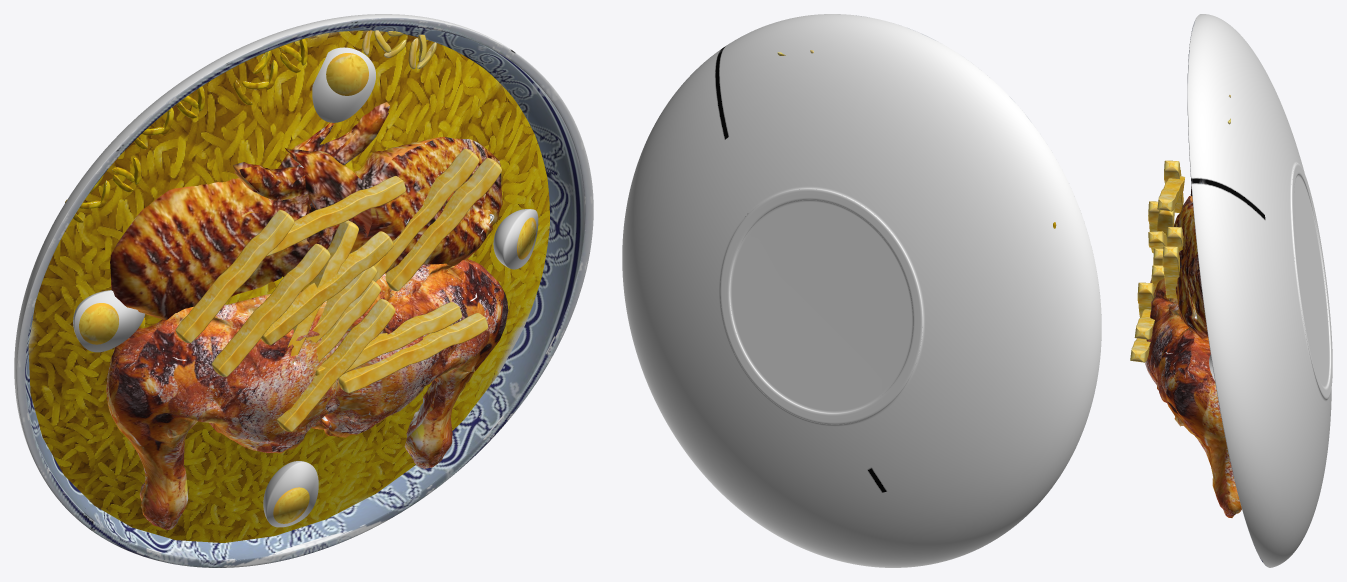
File: large_kbsah.glb
3 views of the same model, side by side, from view 1: azimuth 30°, elevation 25°; view 2: azimuth 150°, elevation 25°; view 3: azimuth 270°, elevation 25° (orthographic). The views are drawn at different scales.
Visible parts, largest first — view 1: Cone.001, Kugel.001, object_0.001, Vert.001, object_0.002, Vert.002, Cube.009, Cube.010, Sphere.010, Cube.008, Cube.011, Cube.006 (+14 smaller); view 2: Kugel.001; view 3: Kugel.001, object_0.002, Vert.002, Cube.011, Cube.017, Cube.008, Cube.010, Cube.012, Cube.013, Cube.014, Cube.007, Cube.006 (+1 smaller).
Boxes of the visible parts, left/top/right/bottom form: Cone.001: left=28, top=30, right=549, bottom=542; Kugel.001: left=14, top=14, right=593, bottom=567; object_0.001: left=106, top=292, right=338, bottom=530; Vert.001: left=110, top=102, right=389, bottom=320; object_0.002: left=312, top=259, right=508, bottom=468; Vert.002: left=233, top=137, right=502, bottom=273; Cube.009: left=211, top=243, right=330, bottom=376; Cube.010: left=175, top=210, right=294, bottom=343; Sphere.010: left=312, top=47, right=375, bottom=122; Cube.008: left=277, top=299, right=395, bottom=431; Cube.011: left=385, top=158, right=501, bottom=291; Cube.006: left=261, top=231, right=393, bottom=344; Kugel.001: left=622, top=14, right=1101, bottom=567; Kugel.001: left=1187, top=14, right=1332, bottom=567; object_0.002: left=1145, top=278, right=1241, bottom=517; Vert.002: left=1173, top=186, right=1208, bottom=339; Cube.011: left=1162, top=246, right=1179, bottom=298; Cube.017: left=1157, top=176, right=1184, bottom=211; Cube.008: left=1137, top=282, right=1154, bottom=317; Cube.010: left=1164, top=160, right=1183, bottom=212; Cube.012: left=1134, top=309, right=1154, bottom=339; Cube.013: left=1130, top=338, right=1150, bottom=362; Cube.014: left=1166, top=227, right=1183, bottom=252; Cube.007: left=1157, top=208, right=1174, bottom=236; Cube.006: left=1148, top=231, right=1166, bottom=251.
Bounding box in the file's own units: 9 × 8.89 × 3.27.
31 materials, 27 textured.
